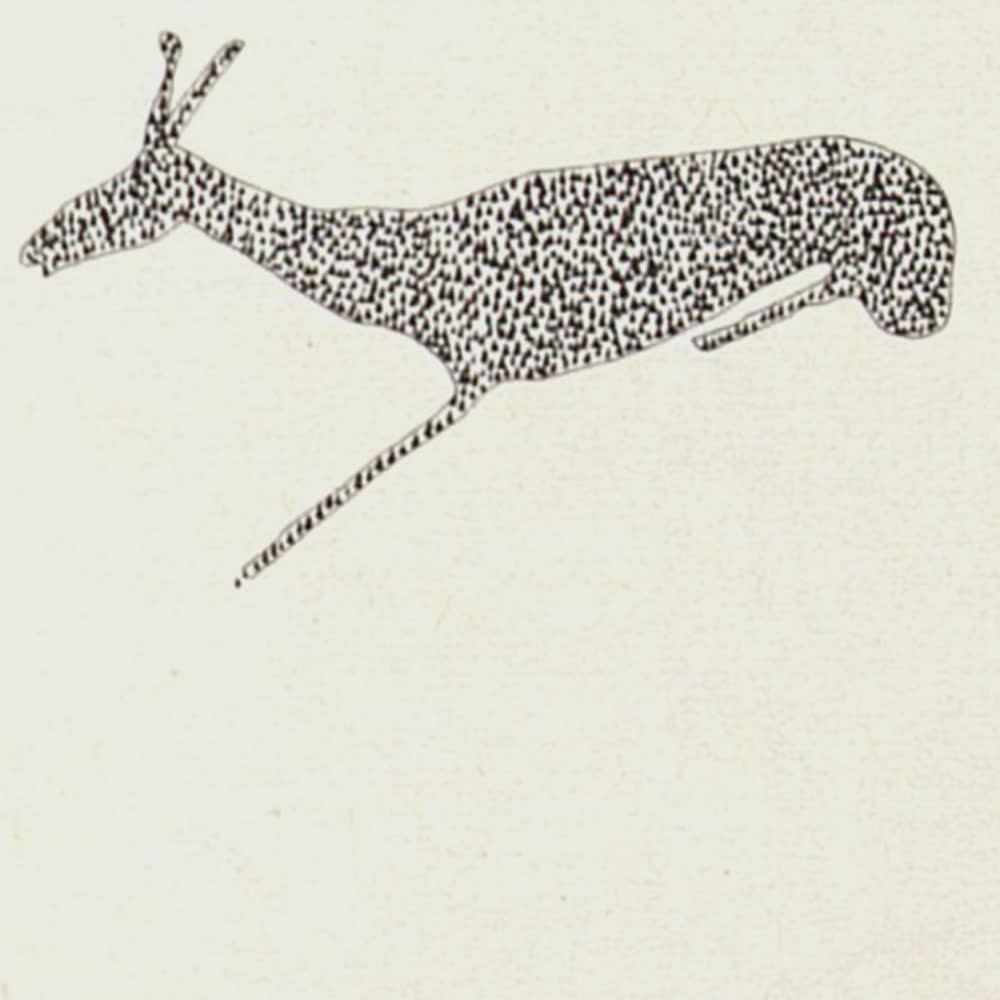animal: (15, 23, 957, 588)
